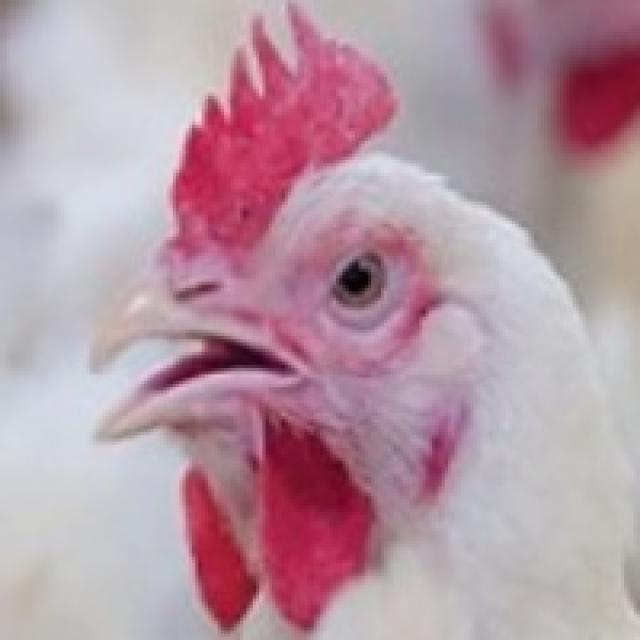Healthy: (83, 3, 624, 640)
